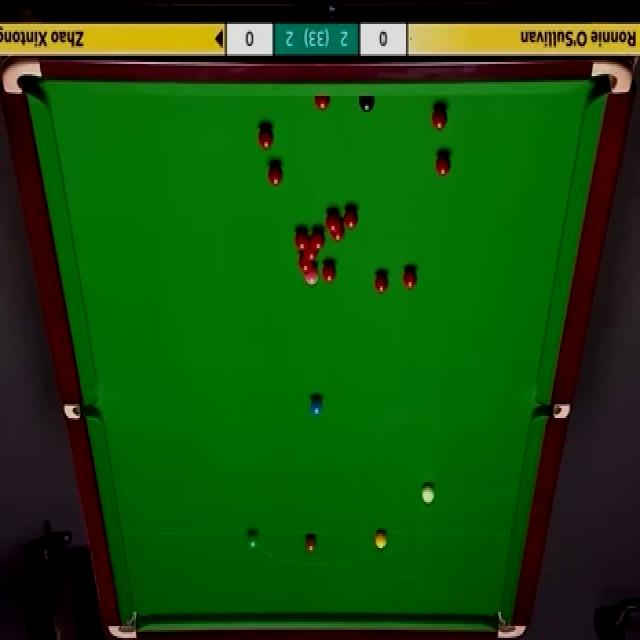black-ball: (359, 94, 375, 114)
blue-ball: (310, 394, 324, 416)
brown-ball: (305, 532, 316, 551)
green-ball: (243, 530, 260, 550)
pink-ball: (304, 271, 320, 288)
red-ball: (430, 104, 448, 132), (257, 126, 274, 152), (343, 206, 360, 231), (268, 160, 283, 186), (403, 267, 419, 291), (325, 209, 341, 233), (436, 153, 451, 178), (374, 272, 389, 294), (311, 228, 326, 250), (314, 95, 331, 114), (322, 263, 337, 284), (294, 230, 309, 249), (298, 256, 314, 272), (330, 228, 346, 242), (304, 249, 318, 261)
white-ball: (421, 482, 435, 505)
yellow-ball: (374, 532, 388, 551)
